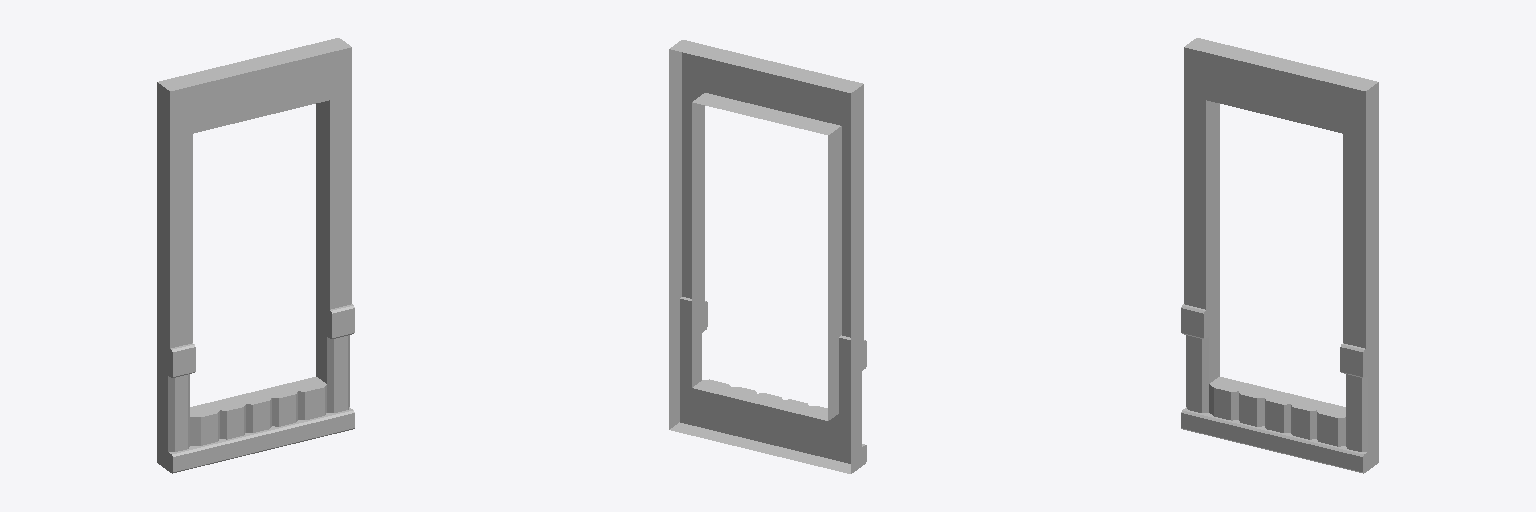
Rendered from wall_modular_panelled_bakery_window_large_A.obj.
The picture shows the model from 3 angles: view 1: azimuth 30°, elevation 25°; view 2: azimuth 150°, elevation 25°; view 3: azimuth 330°, elevation 25°; orthographic projection.
Visible parts, largest first — view 1: wall_modular_panelled_bakery_window_large_A; view 2: wall_modular_panelled_bakery_window_large_A; view 3: wall_modular_panelled_bakery_window_large_A.
Boxes of the visible parts, <box> form: wall_modular_panelled_bakery_window_large_A: <box>157,38,354,473</box>; wall_modular_panelled_bakery_window_large_A: <box>669,40,866,473</box>; wall_modular_panelled_bakery_window_large_A: <box>1181,38,1378,473</box>.
Bounding box in the file's own units: 2 × 4 × 0.3.